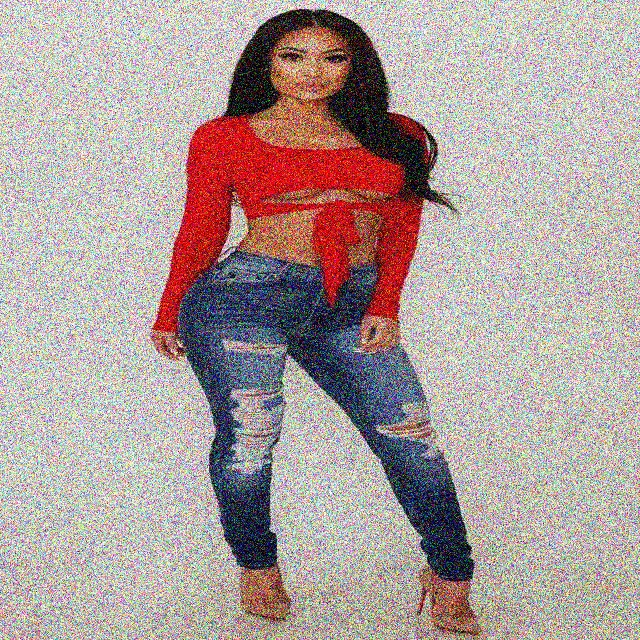Crop_Top: (235, 151, 412, 270)
low_neckline: (236, 107, 407, 220)
ripped_pants: (176, 246, 478, 583)
